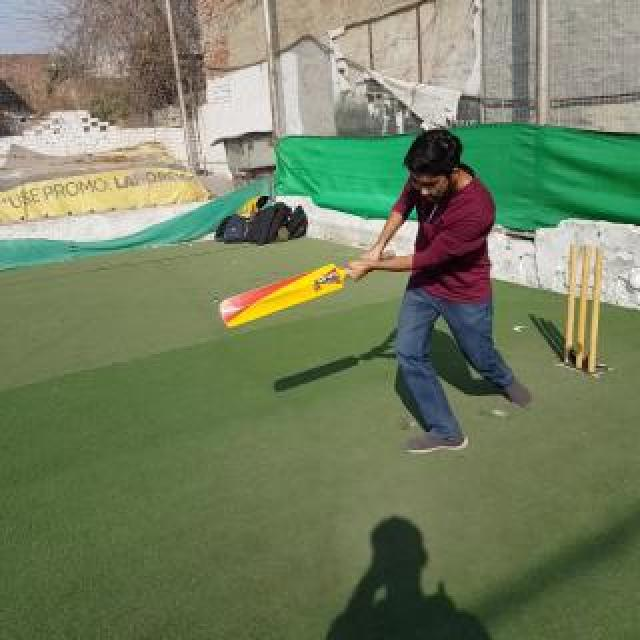bat: (218, 250, 396, 330)
